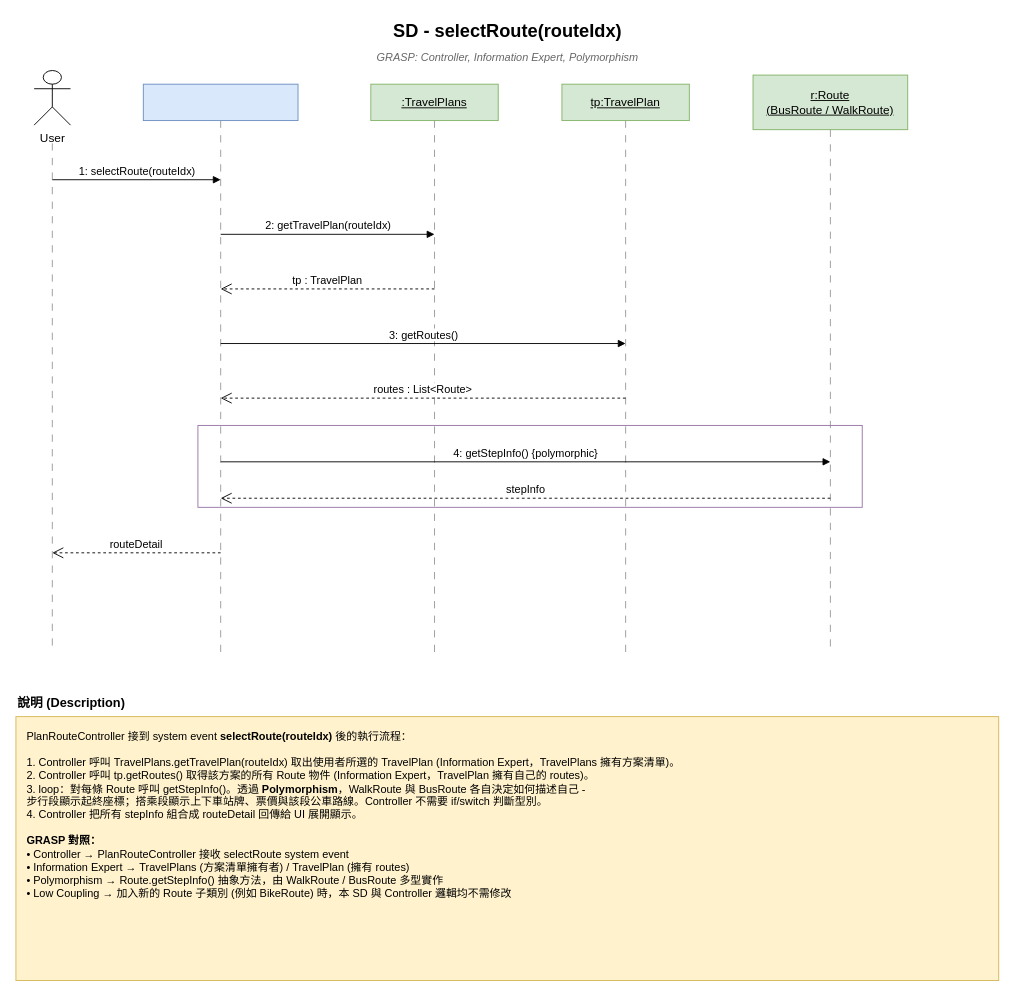
Image size: 1015x996. Some labels were removed from this diagram. Each missing label, with the centre of its shape:
":PlanRouteController" goes at pixel 220 102.
"loop [for each r in routes]" goes at pixel 529 466.
